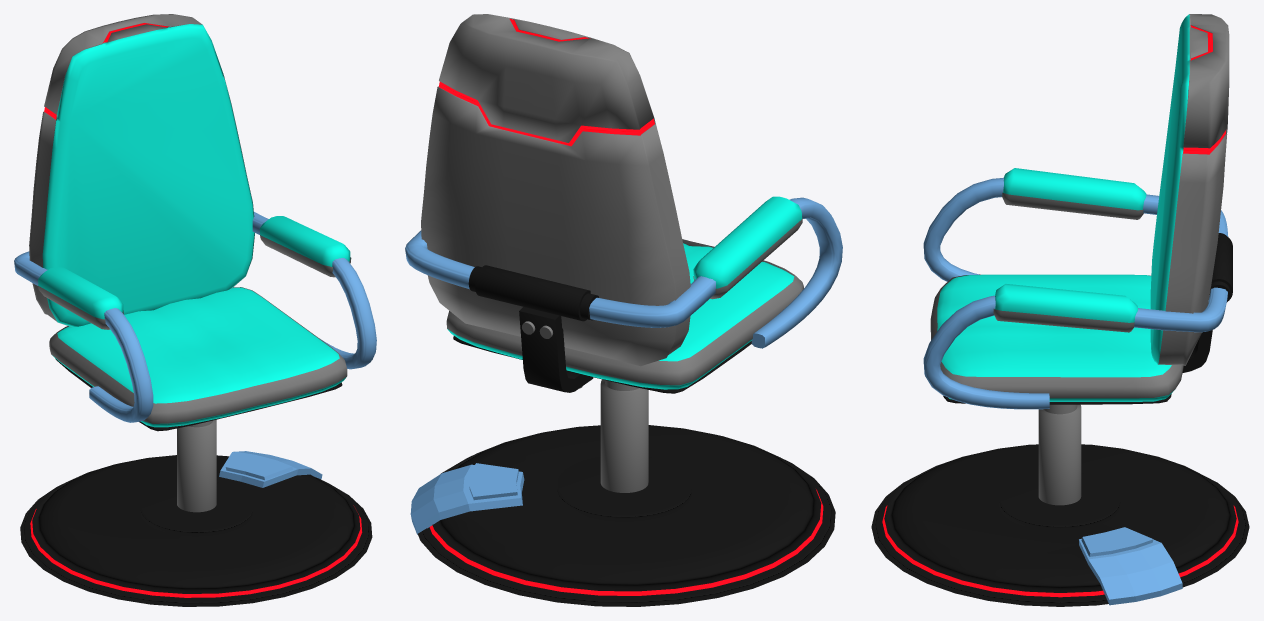
File: chair_tier20.fbx
3 views of the same model, side by side, from view 1: azimuth 30°, elevation 25°; view 2: azimuth 150°, elevation 25°; view 3: azimuth 270°, elevation 25° (orthographic). The views are drawn at different scales.
Parts seen in each view (by area): view 1: Plane, Cylinder.003, Cube, BezierCurve, Cube.001, Cylinder.002, Cylinder.001, Cube.004, Cube.002, Cube.007, Cube.006, Cube.003; view 2: Plane, Cylinder.003, BezierCurve, Cube.001, Cylinder.002, Cube, Cylinder.001, Cube.002, Cylinder.004, Cube.005, Cube.006, Cube.003; view 3: Cylinder.003, Plane, Cube, BezierCurve, Cube.001, Cylinder.002, Cylinder.001, Cube.004, Cube.002, Cube.006, Cube.007, Cylinder.004 (+1 smaller).
Boxes of the visible parts, bbox=[...] form: Plane: bbox=[29, 14, 254, 327]; Cylinder.003: bbox=[20, 451, 372, 606]; Cube: bbox=[52, 287, 346, 427]; BezierCurve: bbox=[14, 212, 376, 422]; Cube.001: bbox=[49, 287, 347, 423]; Cylinder.002: bbox=[140, 481, 252, 536]; Cylinder.001: bbox=[177, 419, 216, 512]; Cube.004: bbox=[259, 216, 350, 266]; Cube.002: bbox=[38, 267, 123, 319]; Cube.007: bbox=[260, 235, 351, 277]; Cube.006: bbox=[38, 286, 123, 329]; Cube.003: bbox=[55, 358, 342, 431]; Plane: bbox=[421, 14, 690, 366]; Cylinder.003: bbox=[410, 425, 835, 606]; BezierCurve: bbox=[405, 197, 842, 348]; Cube.001: bbox=[446, 239, 803, 385]; Cylinder.002: bbox=[557, 456, 691, 521]; Cube: bbox=[447, 243, 794, 389]; Cylinder.001: bbox=[600, 379, 648, 492]; Cube.002: bbox=[693, 196, 802, 288]; Cylinder.004: bbox=[468, 265, 598, 321]; Cube.005: bbox=[519, 307, 593, 392]; Cube.006: bbox=[693, 218, 802, 299]; Cube.003: bbox=[453, 336, 751, 393]; Cylinder.003: bbox=[871, 444, 1249, 606]; Plane: bbox=[1150, 14, 1229, 365]; Cube: bbox=[937, 274, 1174, 401]; BezierCurve: bbox=[923, 177, 1228, 409]; Cube.001: bbox=[930, 274, 1183, 398]; Cylinder.002: bbox=[999, 472, 1120, 531]; Cylinder.001: bbox=[1038, 404, 1081, 505]; Cube.004: bbox=[995, 284, 1137, 322]; Cube.002: bbox=[1003, 168, 1146, 210]; Cube.006: bbox=[1002, 192, 1143, 219]; Cube.007: bbox=[993, 309, 1134, 332]; Cylinder.004: bbox=[1209, 233, 1232, 302].
Bounding box in the file's own units: 96.91 × 138 × 96.91.
